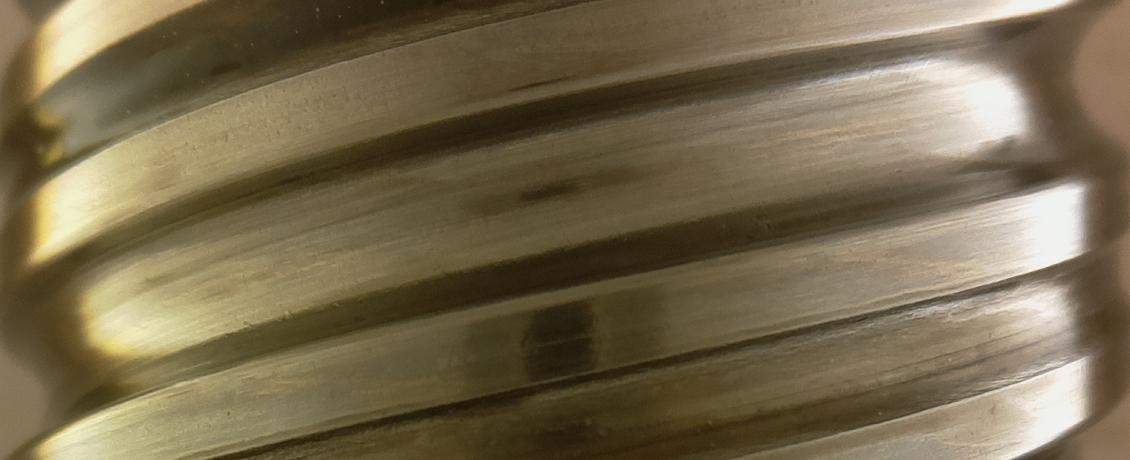pitting: (764, 215, 771, 230)
